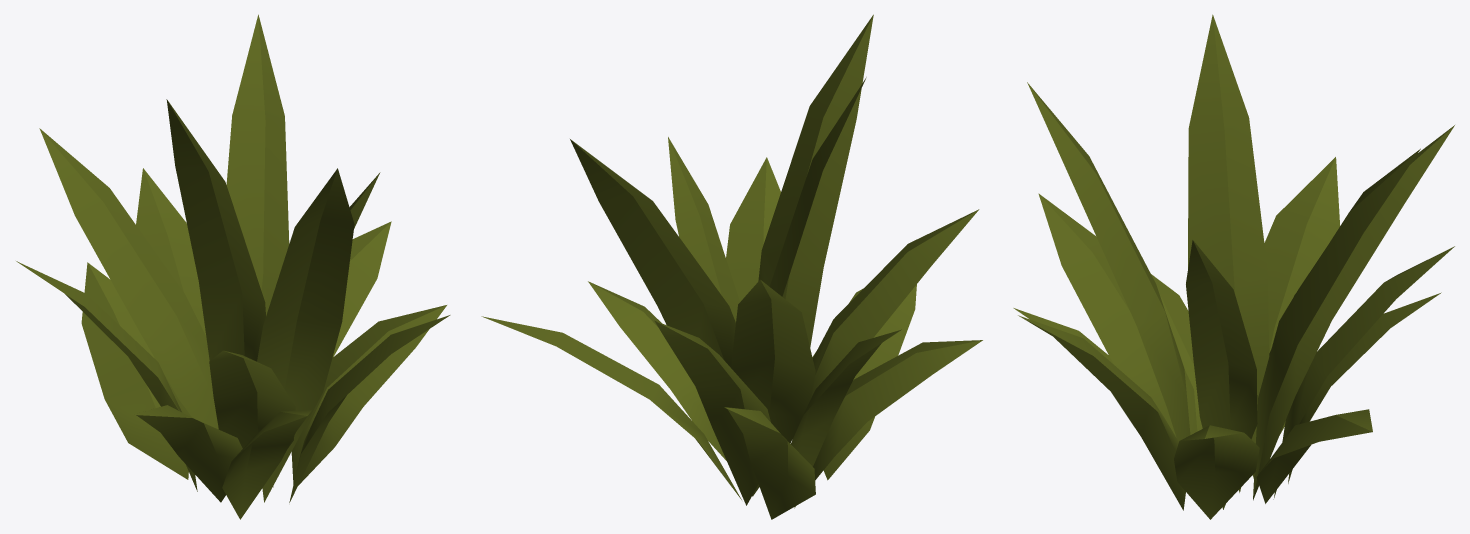
The model's file is Plant_02.fbx.
The picture shows the model from 3 angles, left to right: view 1: azimuth 30°, elevation 25°; view 2: azimuth 150°, elevation 25°; view 3: azimuth 270°, elevation 25°; orthographic projection. The views are drawn at different scales.
Parts seen in each view (by area): view 1: polySurface25; view 2: polySurface25; view 3: polySurface25.
Boxes of the visible parts, x1,y1,x2,y2 form: polySurface25: (16,14,450,519); polySurface25: (481,14,982,519); polySurface25: (1013,14,1454,519).
Bounding box in the file's own units: 139 × 142 × 129.
